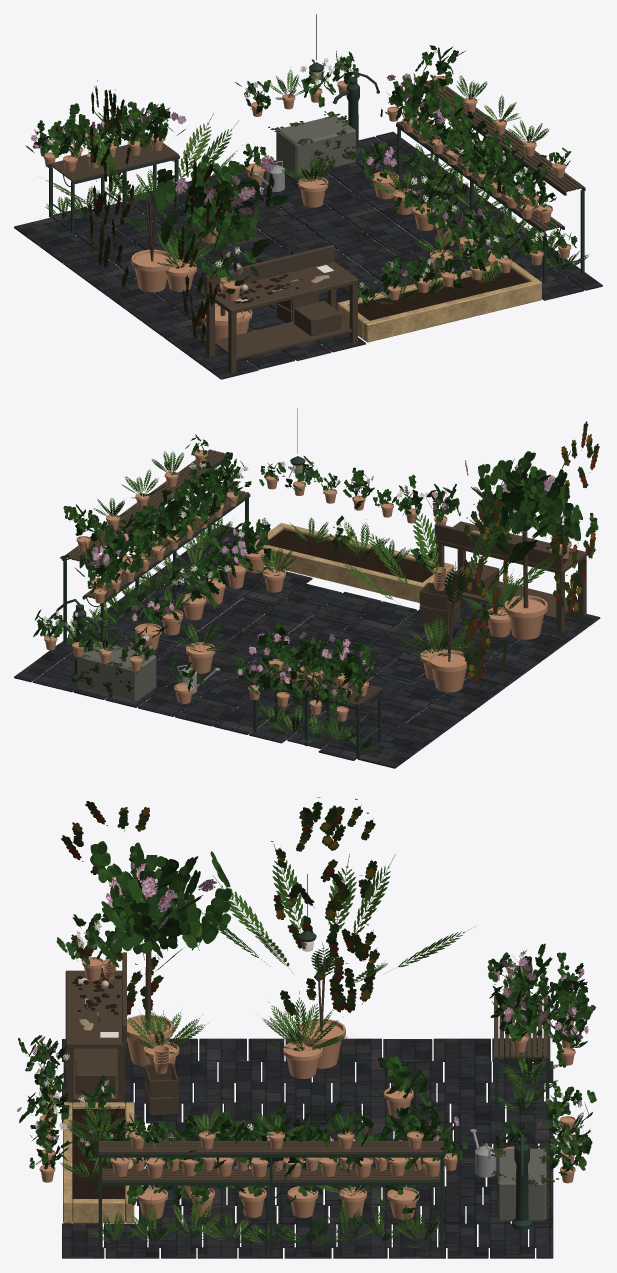
Rendered from room_greenhouse.gltf.
The picture shows the model from 3 angles, top to bottom: view 1: azimuth 30°, elevation 25°; view 2: azimuth 150°, elevation 25°; view 3: azimuth 270°, elevation 25°; orthographic projection. The views are drawn at different scales.
Visible parts, largest first — view 1: 温室·石板地, 温室·阔叶, 温室·盆栽与花床, 温室·蕨叶, 温室·盆栽工作台-col, 温室·手压泵与石水槽-col, 温室·东侧两层花架-col, 温室·常春藤, 温室·北侧花架-col, 温室·粉花, 温室·白花, 温室·木箱; view 2: 温室·石板地, 温室·阔叶, 温室·盆栽与花床, 温室·蕨叶, 温室·常春藤, 温室·盆栽工作台-col, 温室·东侧两层花架-col, 温室·手压泵与石水槽-col, 温室·粉花, 温室·北侧花架-col, 温室·白花, 温室·木箱; view 3: 温室·石板地, 温室·阔叶, 温室·盆栽与花床, 温室·蕨叶, 温室·东侧两层花架-col, 温室·常春藤, 温室·盆栽工作台-col, 温室·手压泵与石水槽-col, 温室·粉花, 温室·北侧花架-col, 温室·白花, 温室·木箱 (+1 smaller).
Part boxes in pixels (x1,y1,x2,y2): 温室·石板地: [14, 131, 602, 379]; 温室·阔叶: [26, 45, 577, 310]; 温室·盆栽与花床: [43, 76, 571, 346]; 温室·蕨叶: [45, 67, 588, 311]; 温室·盆栽工作台-col: [205, 245, 358, 373]; 温室·手压泵与石水槽-col: [268, 72, 379, 175]; 温室·东侧两层花架-col: [396, 80, 585, 283]; 温室·常春藤: [88, 80, 222, 343]; 温室·北侧花架-col: [47, 139, 179, 233]; 温室·粉花: [31, 73, 485, 277]; 温室·白花: [47, 56, 554, 299]; 温室·木箱: [277, 293, 318, 322]; 温室·石板地: [14, 525, 600, 768]; 温室·阔叶: [33, 434, 598, 718]; 温室·盆栽与花床: [44, 450, 571, 721]; 温室·蕨叶: [56, 451, 566, 750]; 温室·常春藤: [461, 421, 599, 683]; 温室·盆栽工作台-col: [434, 521, 587, 632]; 温室·东侧两层花架-col: [62, 449, 250, 643]; 温室·手压泵与石水槽-col: [53, 599, 156, 702]; 温室·粉花: [86, 460, 558, 702]; 温室·北侧花架-col: [252, 664, 382, 758]; 温室·白花: [43, 461, 567, 671]; 温室·木箱: [419, 582, 460, 624]; 温室·石板地: [62, 1038, 553, 1258]; 温室·阔叶: [18, 841, 596, 1213]; 温室·盆栽与花床: [39, 952, 575, 1223]; 温室·蕨叶: [60, 843, 583, 1249]; 温室·东侧两层花架-col: [97, 1141, 444, 1254]; 温室·常春藤: [61, 797, 379, 1015]; 温室·盆栽工作台-col: [65, 952, 126, 1102]; 温室·手压泵与石水槽-col: [490, 1135, 558, 1230]; 温室·粉花: [32, 862, 588, 1166]; 温室·北侧花架-col: [494, 995, 550, 1119]; 温室·白花: [17, 920, 591, 1187]; 温室·木箱: [144, 1063, 178, 1115].
Size of the model in its own units: 7.01 by 3.41 by 6.45.
20 materials, 8 textured.
